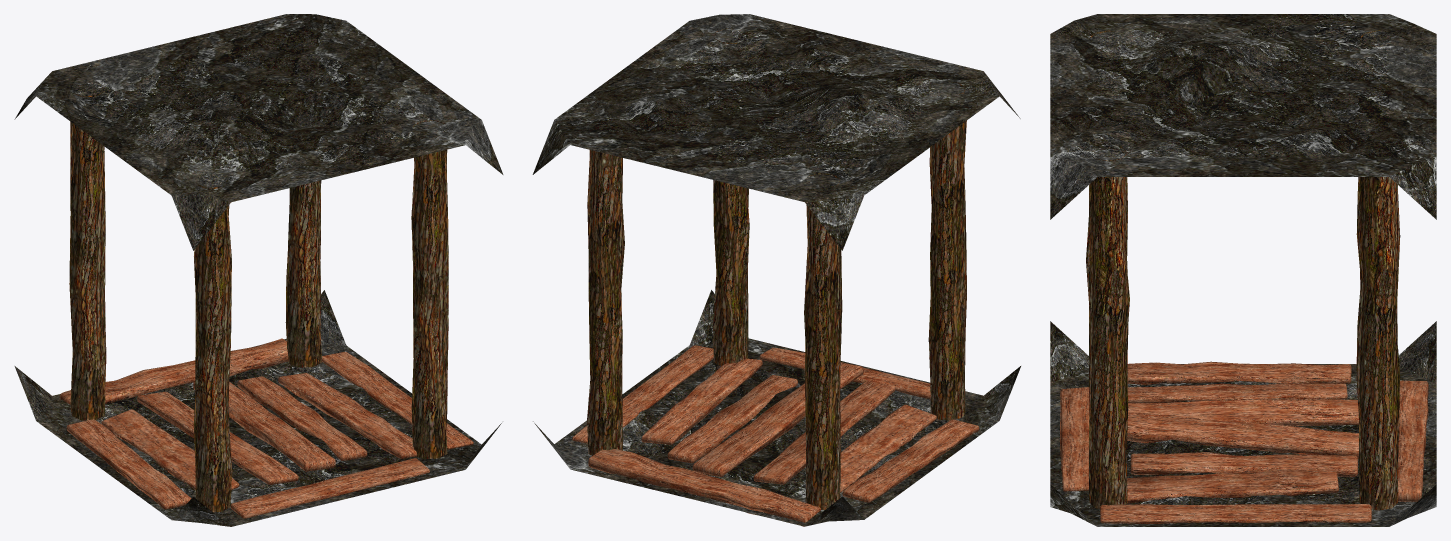
File: Cave_011.fbx
3 views of the same model, side by side, from view 1: azimuth 30°, elevation 25°; view 2: azimuth 150°, elevation 25°; view 3: azimuth 270°, elevation 25° (orthographic). The views are drawn at different scales.
Parts seen in each view (by area): view 1: Cave.011; view 2: Cave.011; view 3: Cave.011.
Boxes of the visible parts, bbox=[...] form: Cave.011: bbox=[14, 14, 503, 526]; Cave.011: bbox=[532, 14, 1020, 526]; Cave.011: bbox=[1050, 14, 1436, 526].
Bounding box in the file's own units: 300 × 328 × 300.
